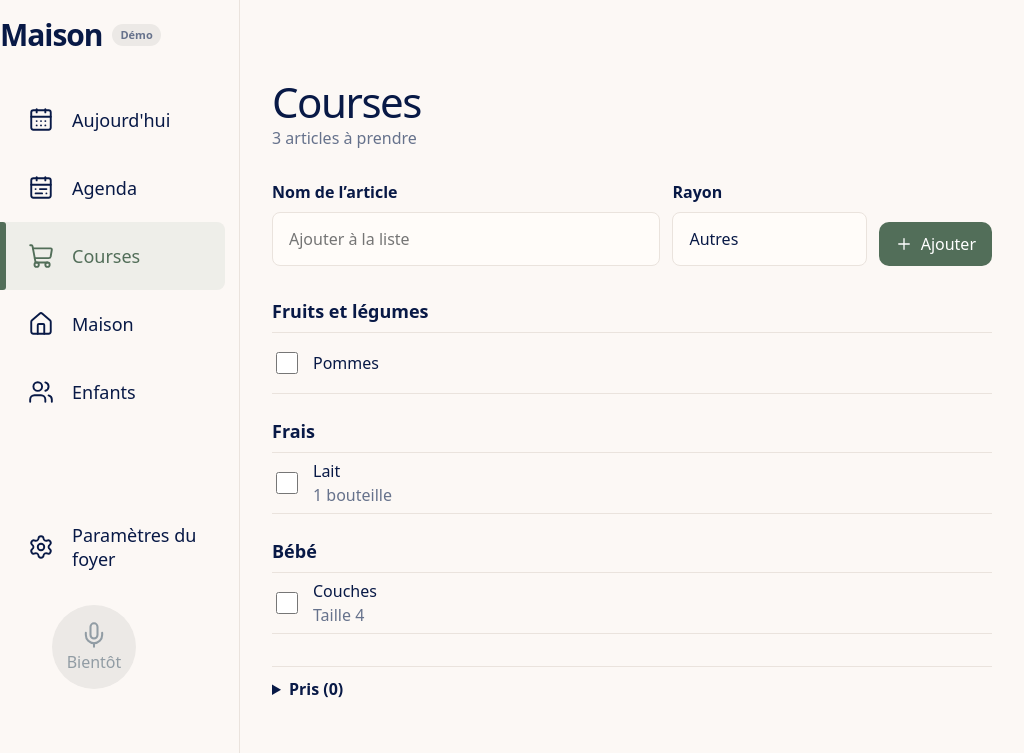
Scenario: adds an item inline and clears checked items only after confirmation
Type "Sacs poubelle" into the field labelled "Nom de l’article". click: (466, 239)
box: x1=272 y1=212 x2=660 y2=266
Click the button "Ajouter". click: (935, 244)
box: x1=879 y1=222 x2=992 y2=266
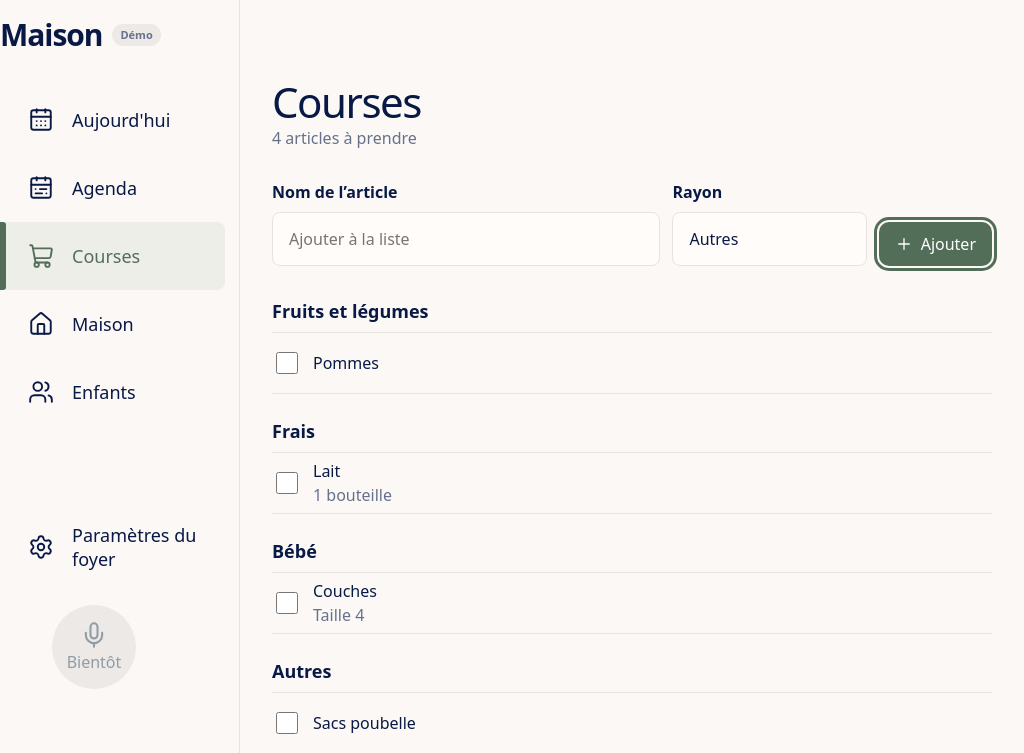
Now the text "Sacs poubelle" is shown, box x1=313 y1=712 x2=416 y2=734
Click the checkbox labelled "Sacs poubelle". click: (287, 723)
box: x1=276 y1=712 x2=298 y2=734
(page scrolled)
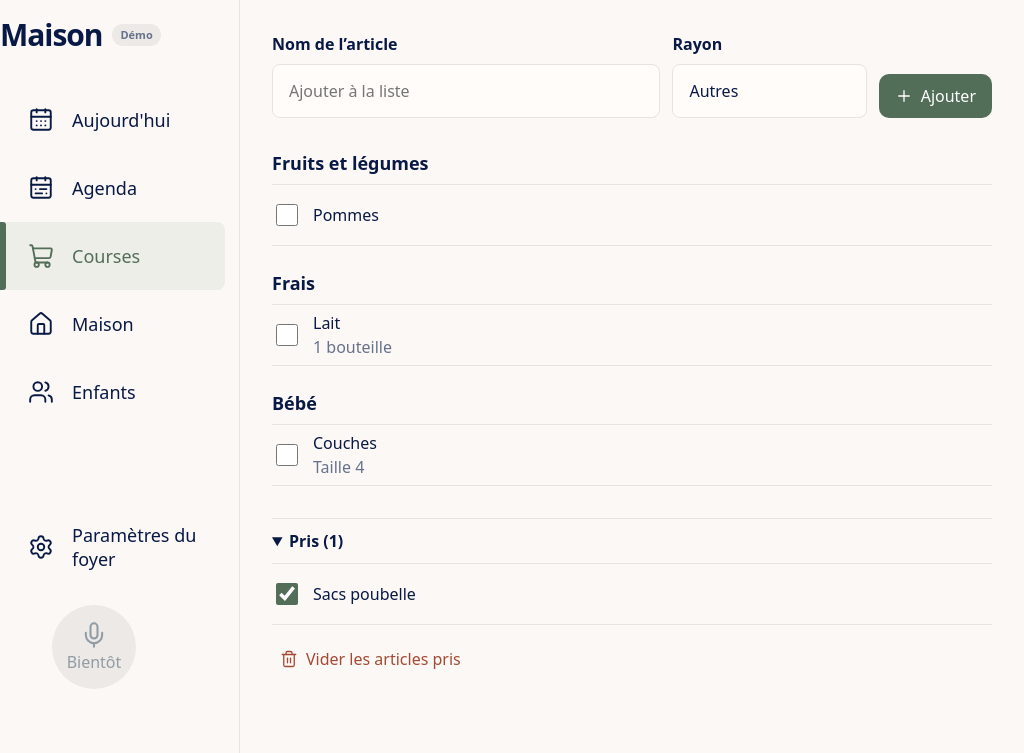
Click the button "Vider les articles pris". click: (370, 659)
box: x1=272 y1=637 x2=469 y2=681
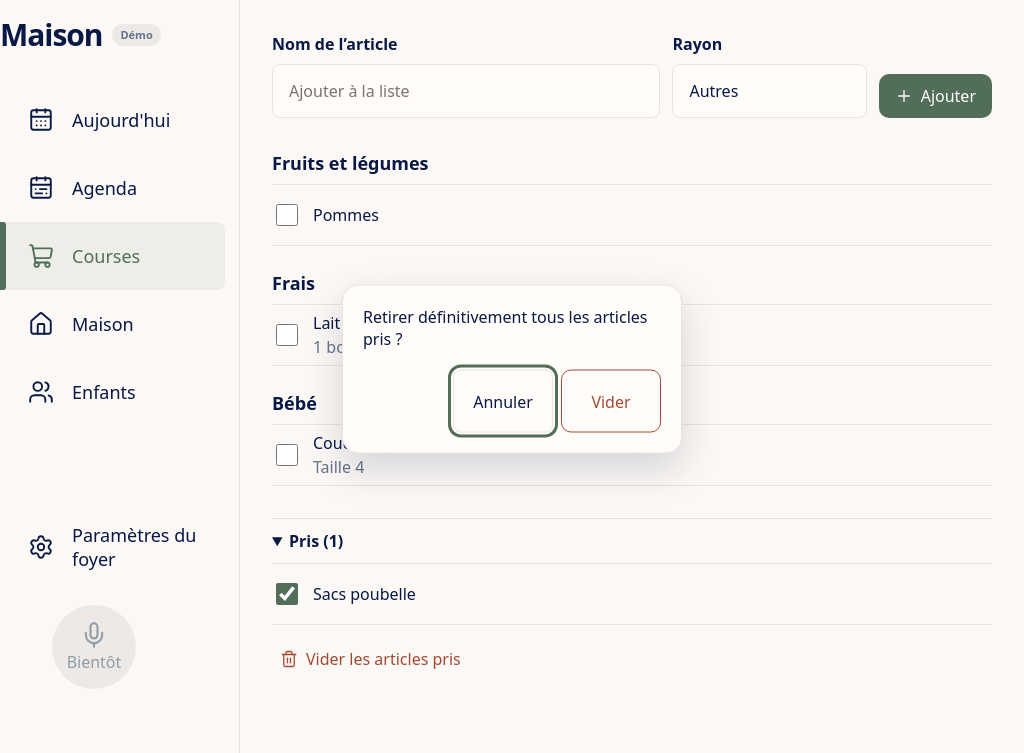
Click the button "Annuler". click: (503, 401)
box: x1=453 y1=370 x2=553 y2=432
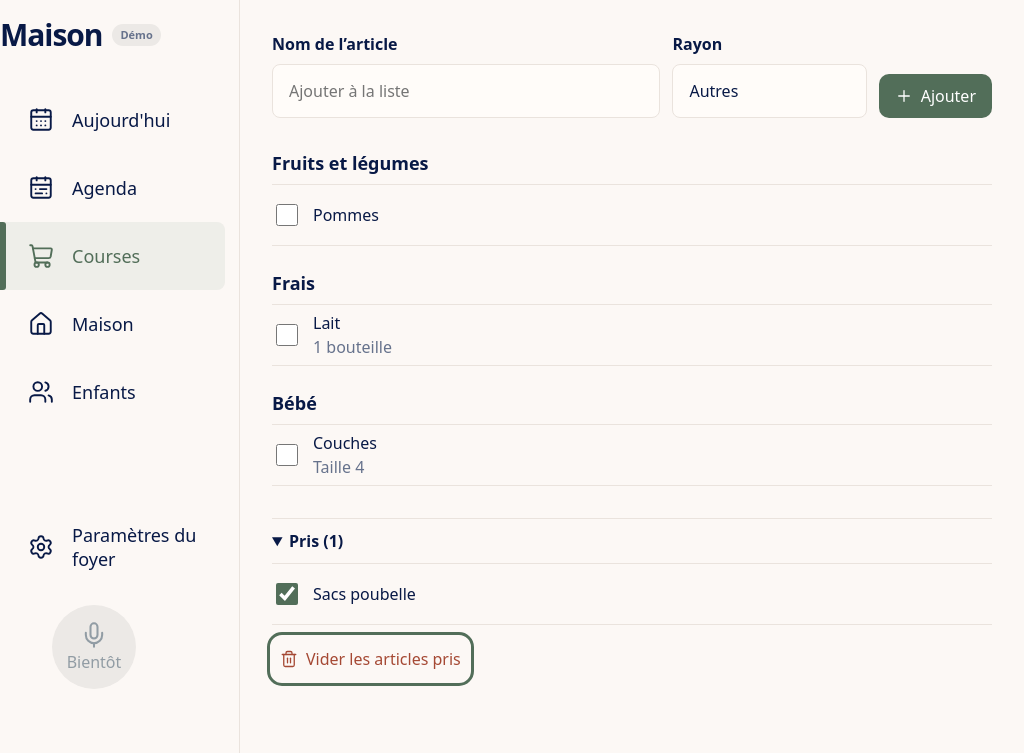
Now the text "Sacs poubelle" is shown, box x1=313 y1=583 x2=416 y2=605
Click the button "Vider les articles pris". click: (370, 659)
box: x1=272 y1=637 x2=469 y2=681
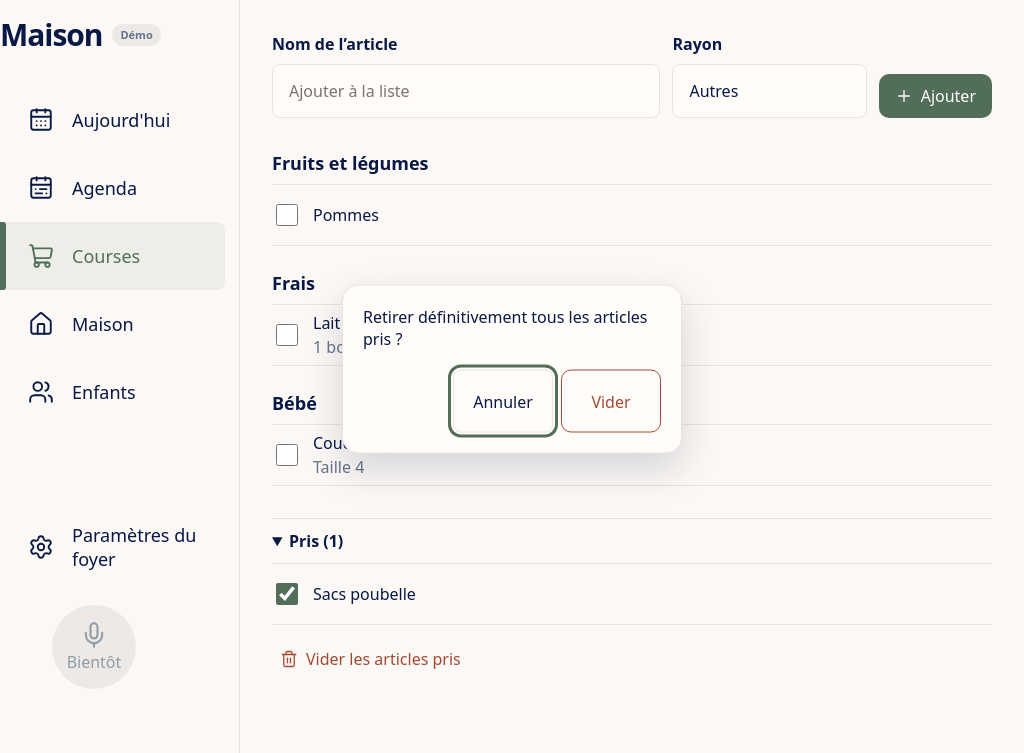
Click the button "Vider". click: (611, 401)
box: x1=561 y1=370 x2=661 y2=432
(page scrolled)
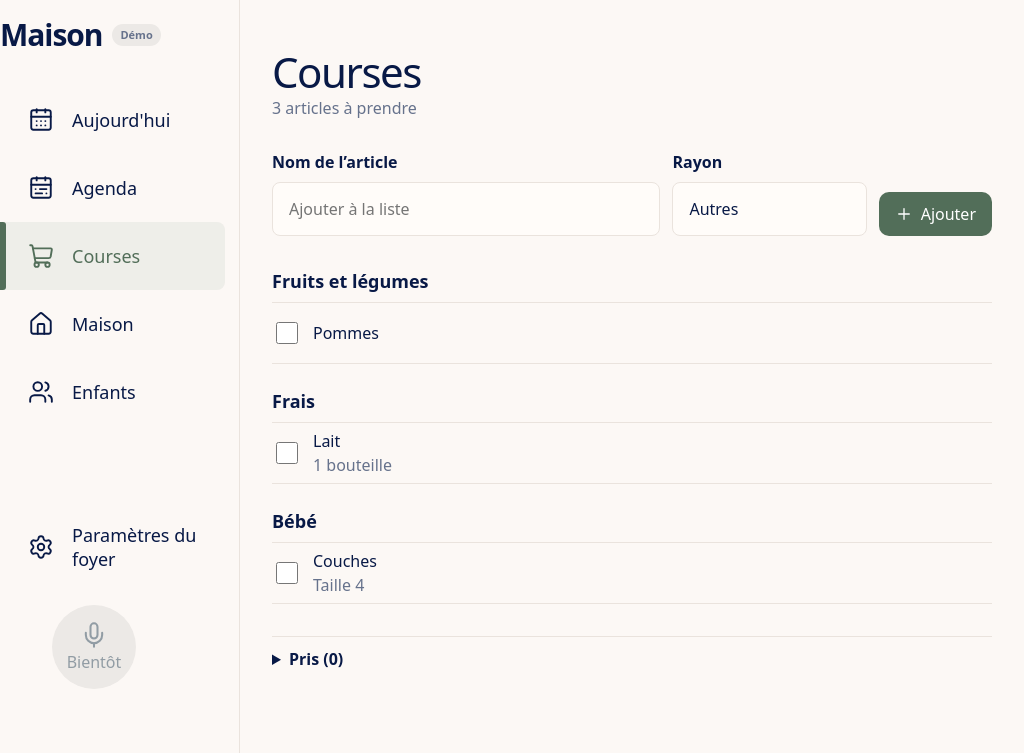
Now the text "Sacs poubelle" is gone
